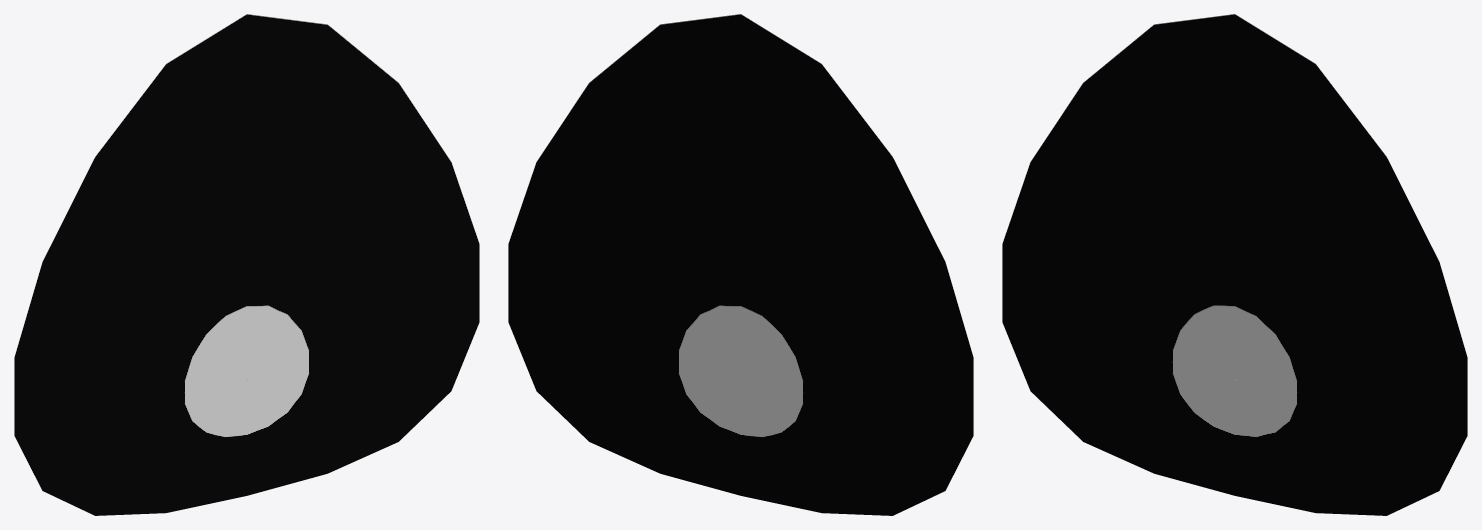
File: FX_MESH_Aura_01.fbx
The picture shows the model from 3 angles, left to right: view 1: azimuth 30°, elevation 25°; view 2: azimuth 150°, elevation 25°; view 3: azimuth 330°, elevation 25°; orthographic projection.
Visible parts, largest first — view 1: FX_MESH_Aura_01; view 2: FX_MESH_Aura_01; view 3: FX_MESH_Aura_01.
Part boxes in pixels (x1,y1,x2,y2): FX_MESH_Aura_01: (14,14,479,515); FX_MESH_Aura_01: (508,14,973,515); FX_MESH_Aura_01: (1002,14,1467,515).
Bounding box in the file's own units: 138 × 137 × 2.34e-05.
Materials: 1 (1 with a texture image).
